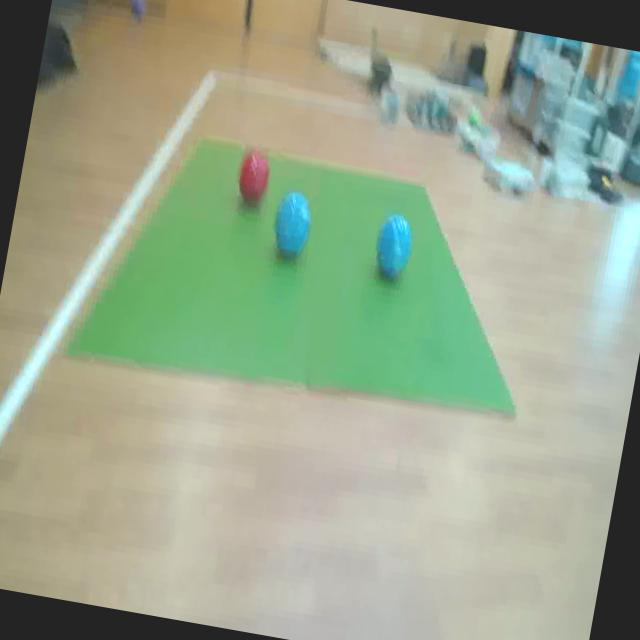blue_ball: (264, 185, 317, 266), (370, 212, 416, 282)
purple_ball: (124, 0, 150, 26)
red_ball: (232, 144, 276, 210)
